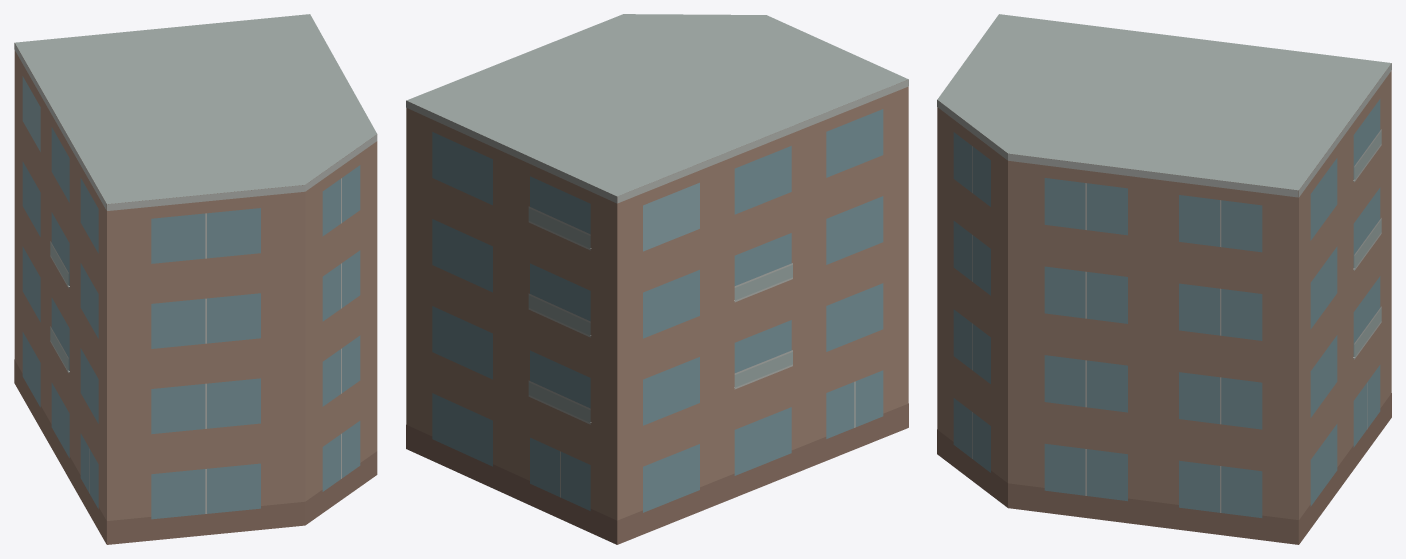
Rendered from survey-upis-32877586.glb.
The picture shows the model from 3 angles, left to right: view 1: azimuth 30°, elevation 25°; view 2: azimuth 150°, elevation 25°; view 3: azimuth 270°, elevation 25°; orthographic projection. The views are drawn at different scales.
Parts seen in each view (by area): view 1: survey-upis-32877586.tmp; view 2: survey-upis-32877586.tmp; view 3: survey-upis-32877586.tmp.
Part boxes in pixels (left/top/right/bottom): survey-upis-32877586.tmp: left=14, top=14, right=377, bottom=544; survey-upis-32877586.tmp: left=406, top=14, right=908, bottom=544; survey-upis-32877586.tmp: left=937, top=14, right=1391, bottom=544.
Bounding box in the file's own units: 12.81 × 12 × 13.95.
